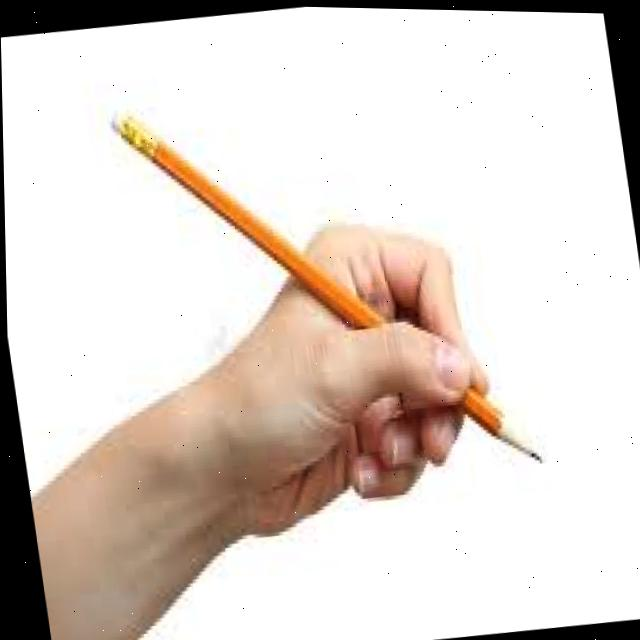pencil: (105, 99, 387, 326), (452, 383, 545, 471)
